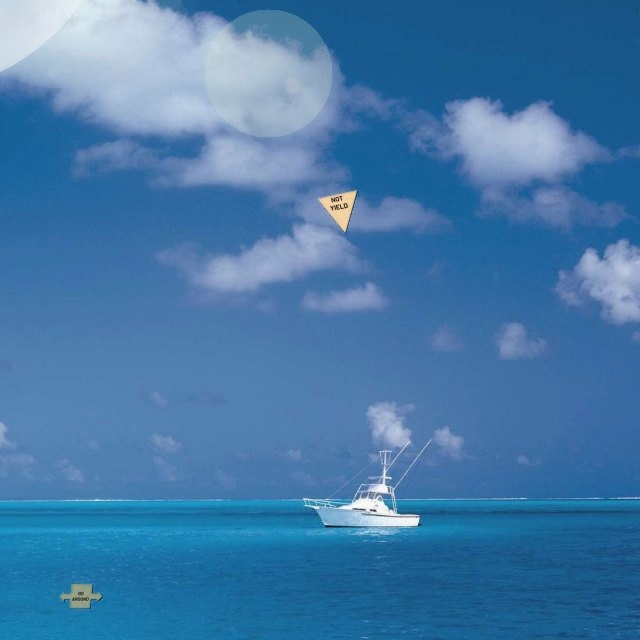GO_AROUND: (58, 583, 103, 609)
NOT_YIELD: (316, 189, 358, 234)
